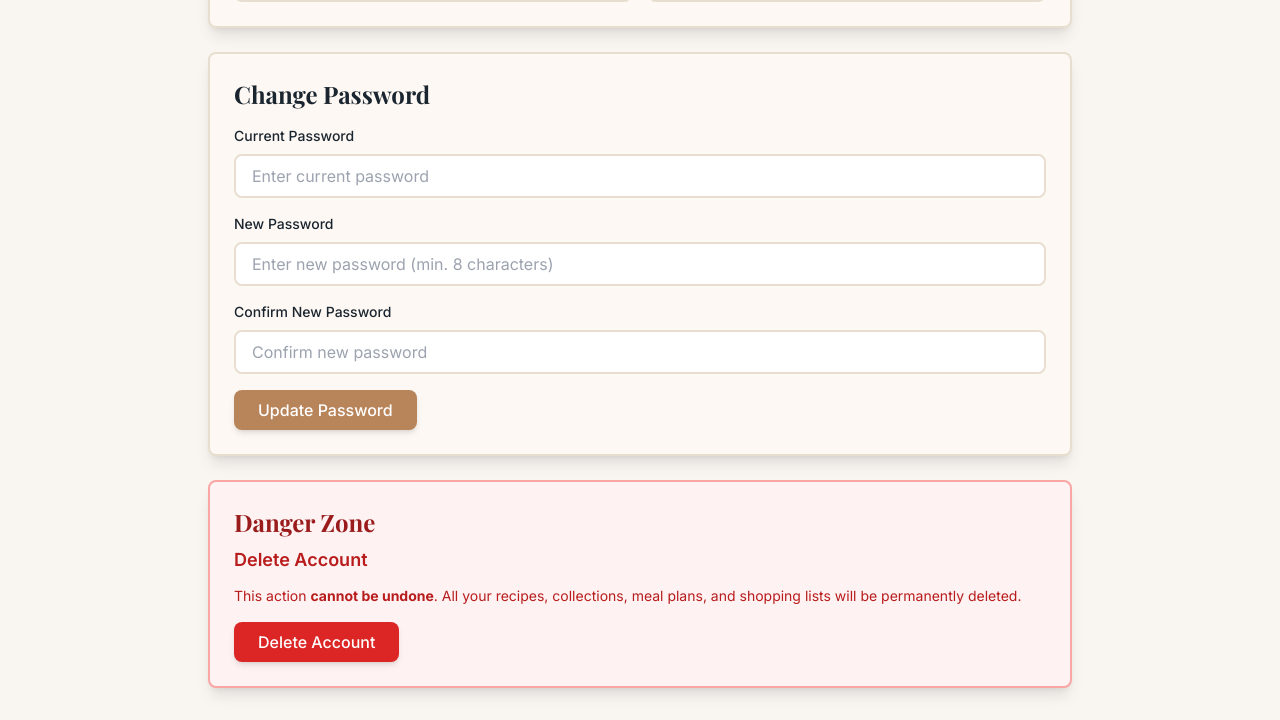
Scenario: AccountSettingsPage › closes delete modal when cancel clicked
(page scrolled)
Click the button "Delete Account" at coordinates (317, 642), box [234, 622, 399, 662]
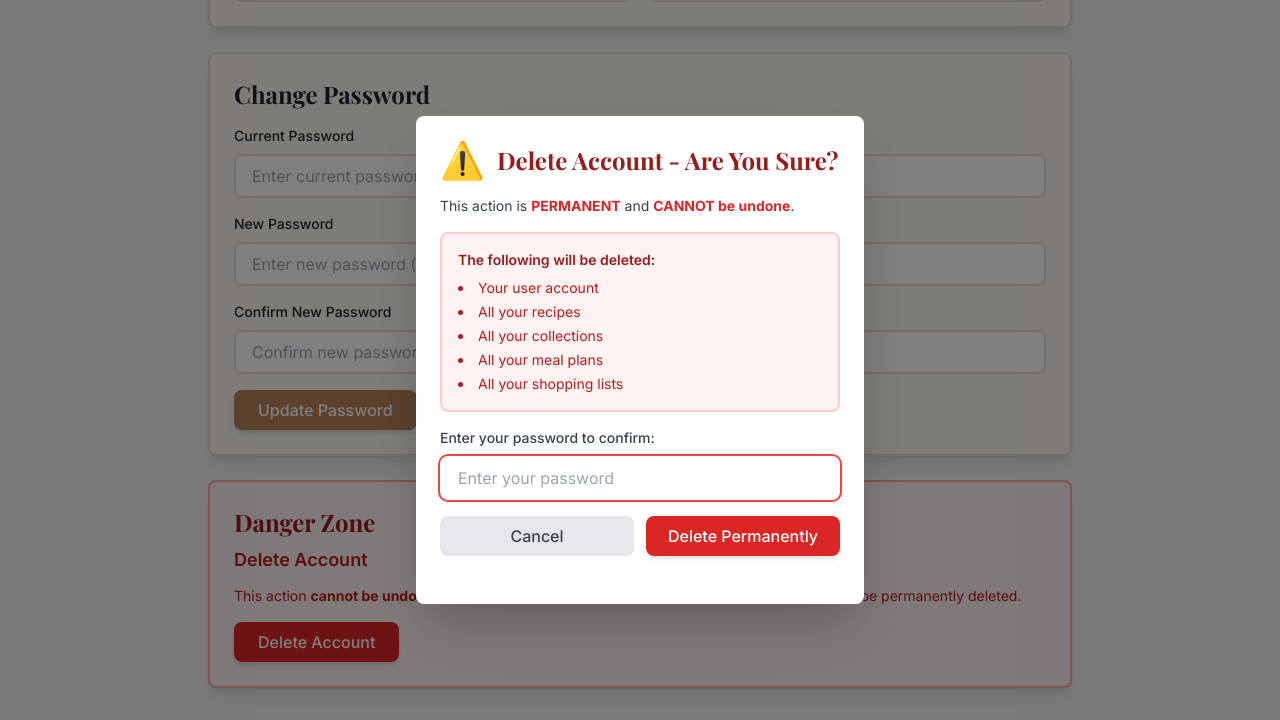
Click the button "Cancel" at coordinates (537, 536), box [440, 516, 634, 556]
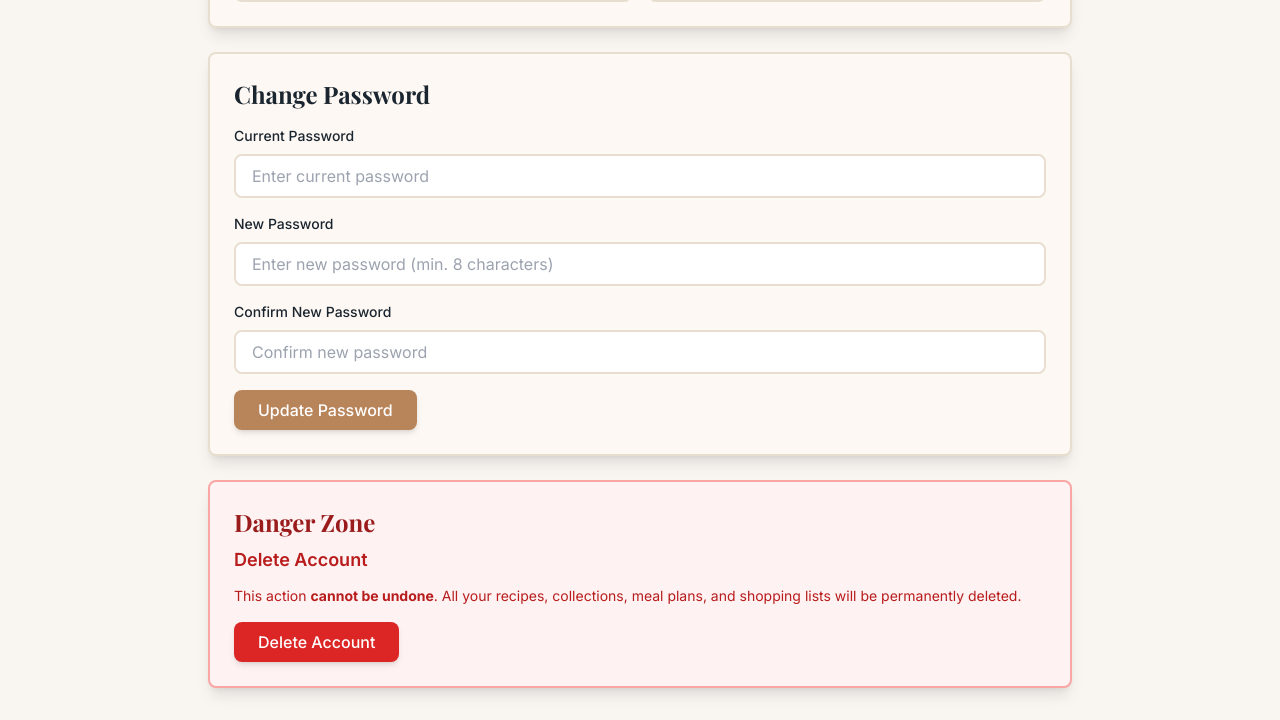
Expected: the heading "Delete Account - Are You Sure" is gone
